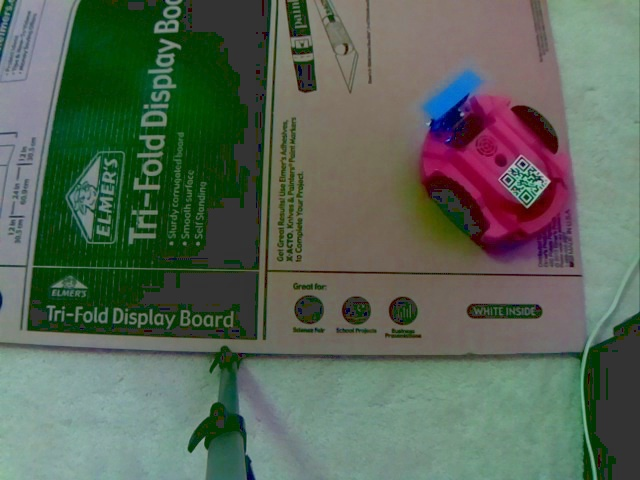board: (409, 70, 495, 138)
chassis: (416, 68, 571, 249)
